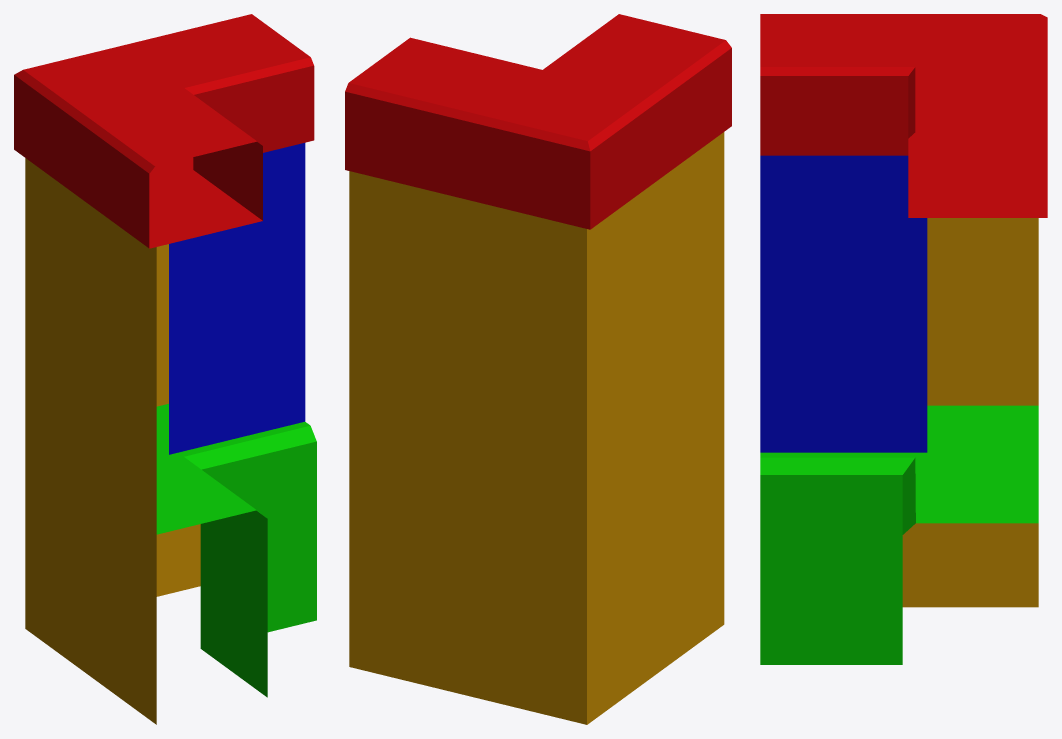
File: Wall_Corner2.fbx
The picture shows the model from 3 angles, left to right: view 1: azimuth 30°, elevation 25°; view 2: azimuth 150°, elevation 25°; view 3: azimuth 270°, elevation 25°; orthographic projection. The views are drawn at different scales.
Visible parts, largest first — view 1: Cube.325; view 2: Cube.325; view 3: Cube.325.
Part boxes in pixels (bbox=[...]): Cube.325: bbox=[14, 14, 316, 724]; Cube.325: bbox=[345, 14, 731, 724]; Cube.325: bbox=[760, 14, 1047, 664].
Bounding box in the file's own units: 206 × 206 × 470.
